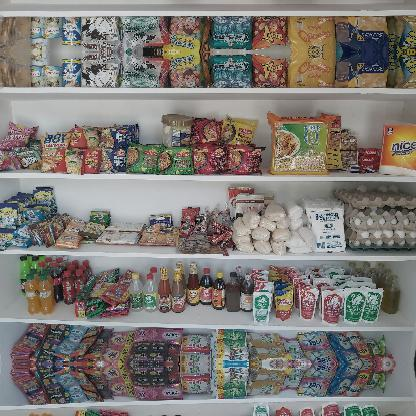Lady-s-Choice: (162, 114, 192, 148)
